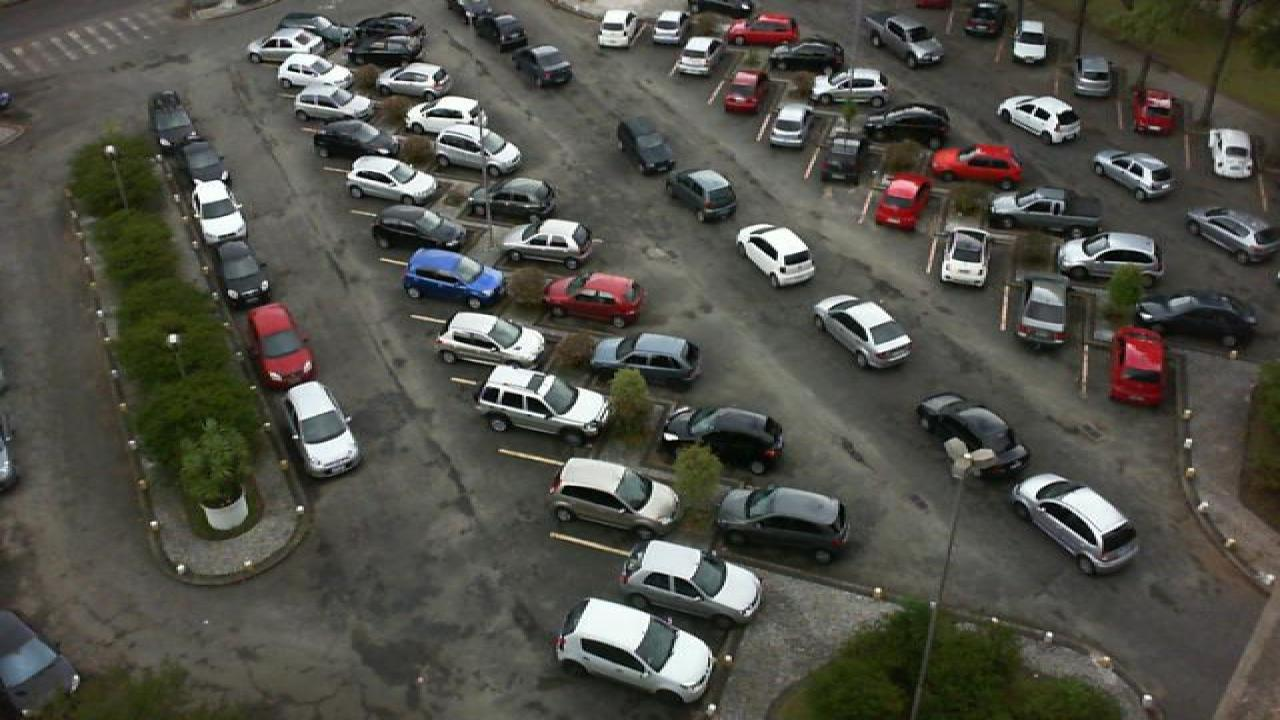Car: (554, 596, 718, 704), (1012, 473, 1140, 577), (622, 539, 764, 631), (472, 363, 616, 448), (714, 484, 850, 566), (550, 456, 680, 536), (916, 391, 1030, 480), (658, 405, 784, 477), (284, 379, 364, 479), (814, 294, 914, 368), (244, 300, 320, 392), (436, 310, 548, 371), (1136, 295, 1260, 350), (402, 248, 508, 310), (588, 332, 702, 388), (1054, 231, 1166, 287), (544, 272, 648, 328), (1184, 206, 1280, 265), (986, 187, 1102, 235), (490, 218, 594, 270), (738, 223, 818, 289), (456, 175, 556, 224), (1014, 275, 1076, 351), (346, 154, 440, 204), (430, 126, 522, 177), (342, 12, 428, 66), (368, 205, 464, 253), (1110, 325, 1166, 407), (860, 16, 946, 68), (998, 95, 1086, 145), (188, 175, 250, 243), (1094, 150, 1174, 202), (218, 238, 274, 310), (666, 167, 738, 222), (860, 101, 954, 143), (930, 144, 1024, 183), (312, 118, 394, 162), (874, 170, 930, 233), (164, 130, 228, 185), (616, 118, 676, 176), (404, 96, 490, 136), (940, 224, 992, 290), (808, 68, 892, 108), (246, 28, 328, 68), (368, 62, 452, 101), (290, 86, 372, 124), (274, 55, 354, 93), (1204, 127, 1256, 180), (726, 11, 804, 46), (514, 45, 576, 89), (766, 38, 848, 71), (148, 90, 196, 141), (822, 132, 868, 185), (1132, 87, 1180, 137), (1070, 54, 1116, 100), (766, 102, 810, 148), (596, 8, 644, 50), (720, 68, 762, 114), (1010, 18, 1050, 66), (674, 35, 720, 76), (484, 10, 528, 47), (650, 8, 688, 46)
